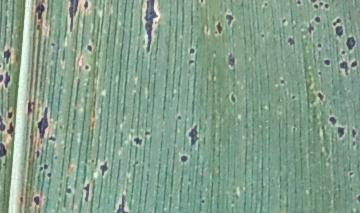tarspot: (144, 1, 159, 53), (37, 108, 49, 138), (67, 1, 78, 33), (186, 123, 199, 145), (32, 3, 45, 20), (117, 193, 128, 213), (98, 160, 109, 176), (338, 61, 349, 76), (345, 36, 356, 50), (336, 124, 346, 139), (225, 13, 235, 27), (83, 182, 90, 201), (3, 49, 12, 63), (3, 72, 11, 87), (131, 137, 143, 147), (227, 53, 236, 66), (215, 21, 223, 35), (228, 93, 238, 104), (1, 141, 7, 159), (85, 42, 94, 54), (7, 121, 14, 136), (335, 25, 343, 38), (32, 195, 41, 206), (332, 16, 343, 25), (27, 101, 35, 113), (322, 57, 331, 67), (287, 36, 296, 46), (1, 115, 6, 132), (317, 91, 324, 103), (180, 154, 189, 163), (328, 116, 337, 125), (313, 15, 322, 24), (349, 59, 358, 68), (34, 148, 41, 159), (308, 23, 315, 34), (351, 128, 357, 139), (83, 63, 90, 72), (49, 135, 57, 142), (82, 1, 89, 9), (199, 198, 207, 205), (187, 58, 195, 65), (188, 47, 195, 55), (347, 170, 355, 177), (7, 110, 13, 119), (64, 188, 73, 194), (18, 196, 25, 203), (144, 130, 151, 137), (175, 113, 182, 120), (289, 94, 297, 100), (317, 42, 323, 50), (280, 16, 286, 24), (46, 172, 52, 179), (279, 78, 285, 85), (44, 163, 49, 171), (38, 166, 44, 172), (351, 140, 357, 146), (296, 1, 302, 7), (313, 4, 319, 10), (340, 49, 346, 55), (51, 41, 56, 48), (259, 33, 266, 38), (1, 73, 4, 83), (90, 158, 95, 164), (53, 155, 59, 160), (58, 124, 63, 130), (264, 2, 269, 8), (357, 193, 360, 203), (317, 70, 322, 76), (325, 3, 330, 9), (319, 1, 324, 7), (200, 1, 205, 4), (1, 62, 3, 69), (310, 1, 317, 3)
